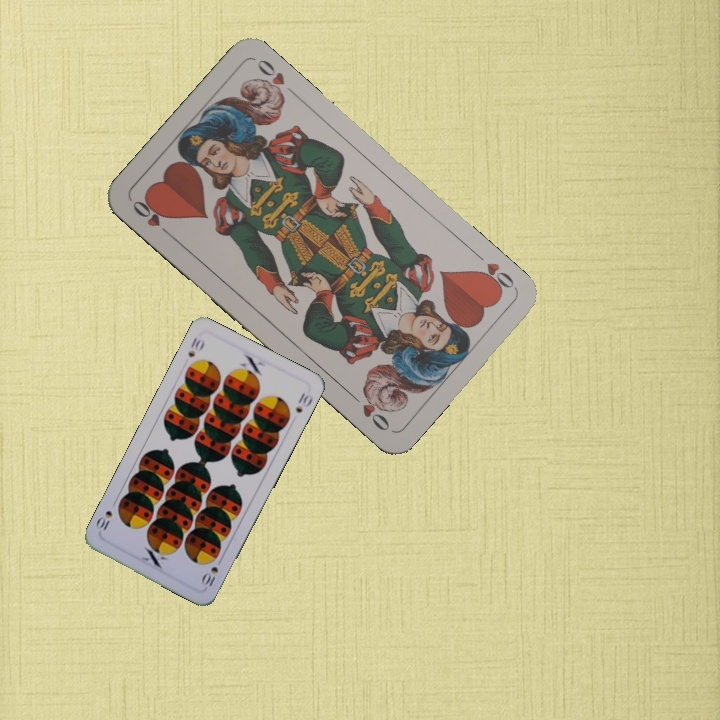HO: (470, 247, 517, 296), (128, 194, 176, 241)
S10: (198, 553, 224, 591), (184, 333, 207, 361)
